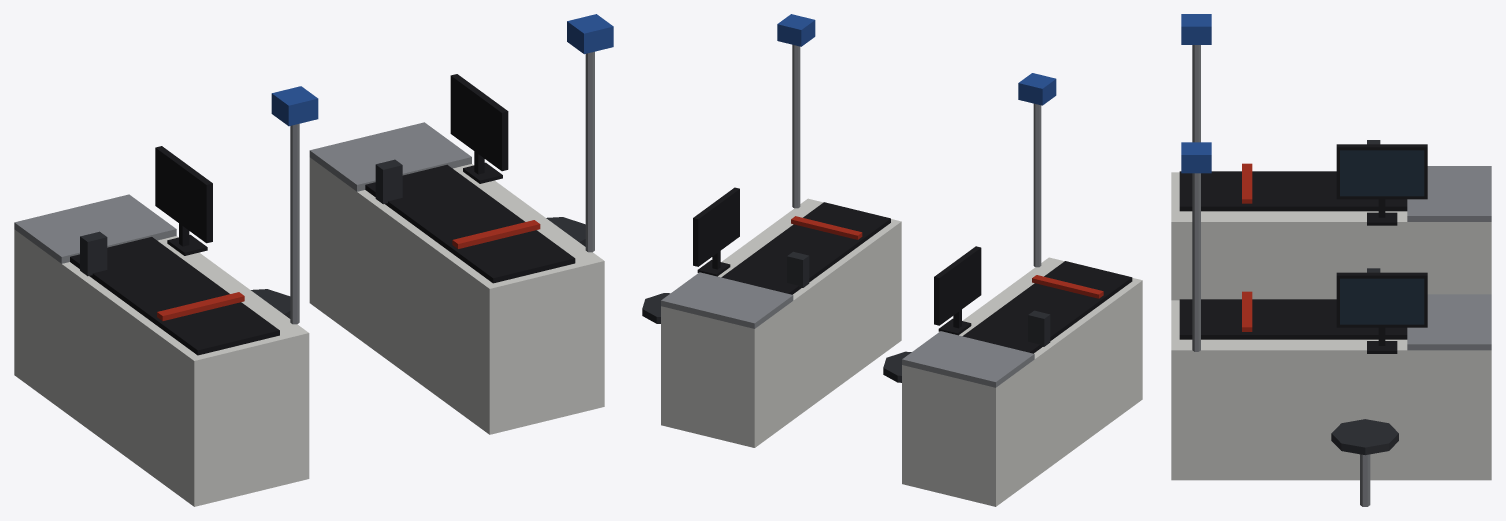
Rendered from prop_tills.9ec40c2f47a8.glb.
3 renders of one model, left to right at view 1: azimuth 30°, elevation 25°; view 2: azimuth 150°, elevation 25°; view 3: azimuth 270°, elevation 25°, orthographic. The views are drawn at different scales.
Visible parts, largest first — view 1: body; view 2: body; view 3: body.
Boxes of the visible parts, x1,y1,x2,y2 form: body: (14,14,613,506); body: (642,14,1142,506); body: (1171,14,1491,506).
Size of the model in its own units: 3.05 by 2.17 by 1.9.
